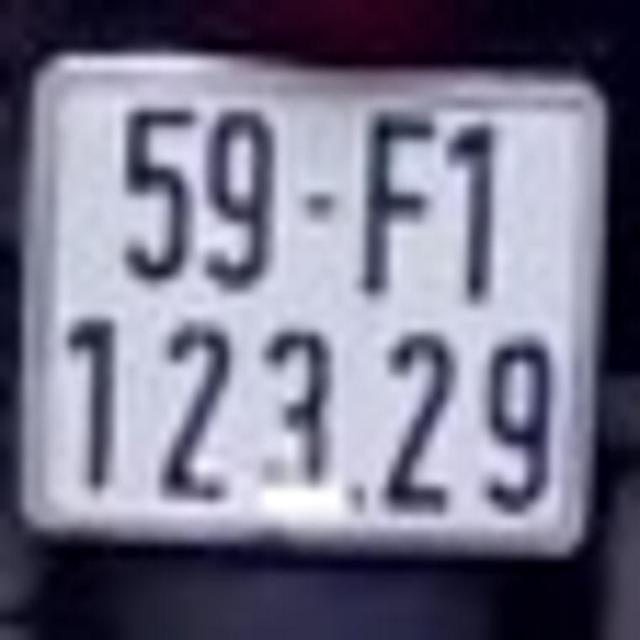1: (441, 113, 506, 305), (56, 308, 122, 494)
2: (377, 326, 458, 518), (156, 316, 234, 503)
3: (256, 320, 336, 510)
5: (112, 99, 200, 288)
9: (204, 98, 279, 288), (481, 332, 555, 522)
F: (357, 97, 438, 297)
